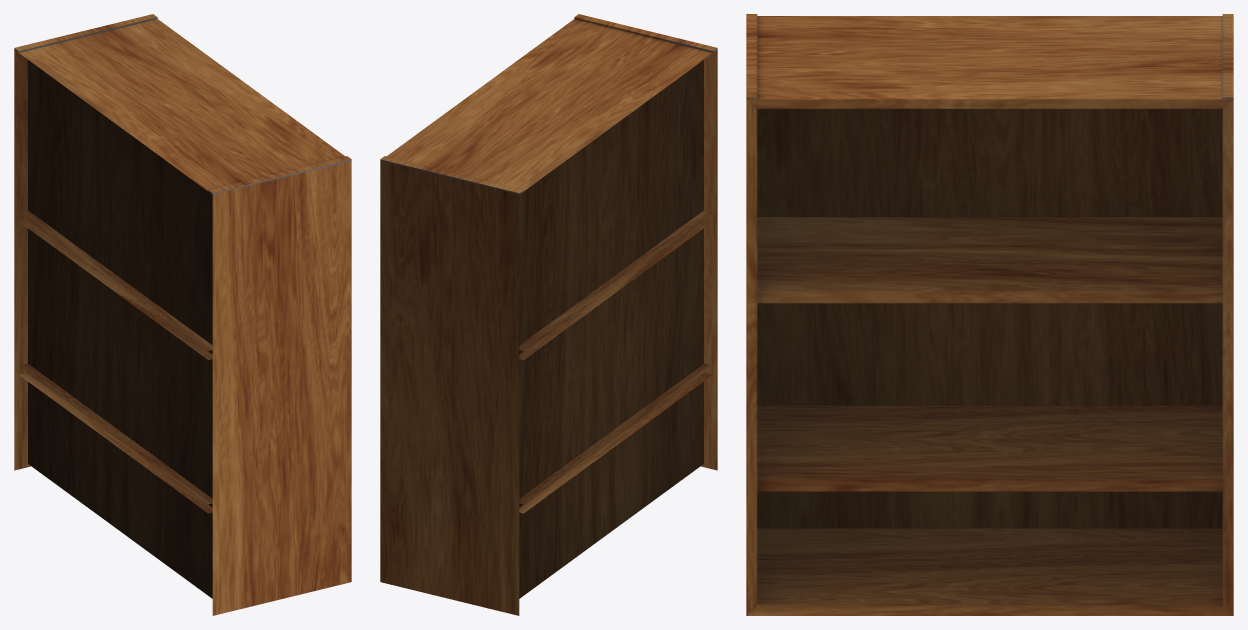
File: NFO_ShelvingUnit.fbx
The picture shows the model from 3 angles, left to right: view 1: azimuth 30°, elevation 25°; view 2: azimuth 150°, elevation 25°; view 3: azimuth 270°, elevation 25°; orthographic projection. The views are drawn at different scales.
Parts seen in each view (by area): view 1: ShelvingUnit; view 2: ShelvingUnit; view 3: ShelvingUnit.
Part boxes in pixels (x1,y1,x2,y2): ShelvingUnit: (14, 14, 351, 615); ShelvingUnit: (380, 14, 717, 615); ShelvingUnit: (746, 14, 1233, 615).
Size of the model in its own units: 0.4427 by 1.29 by 1.1.
